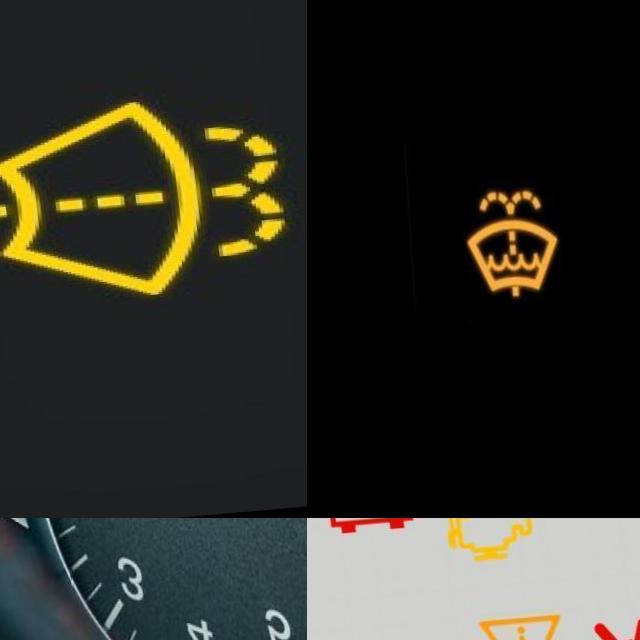Washer Fluid: (0, 97, 284, 316), (452, 193, 558, 309)
